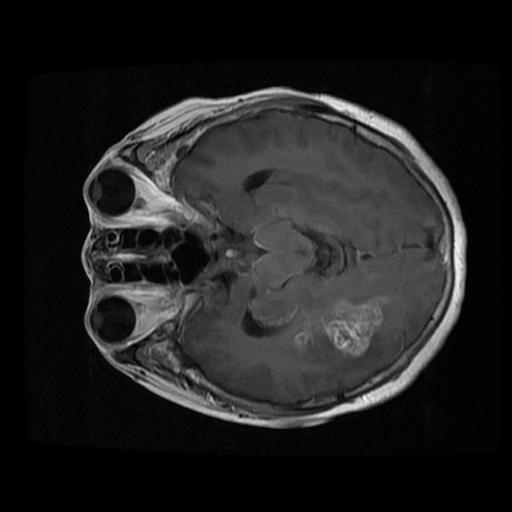glioma: (290, 295, 401, 374)
